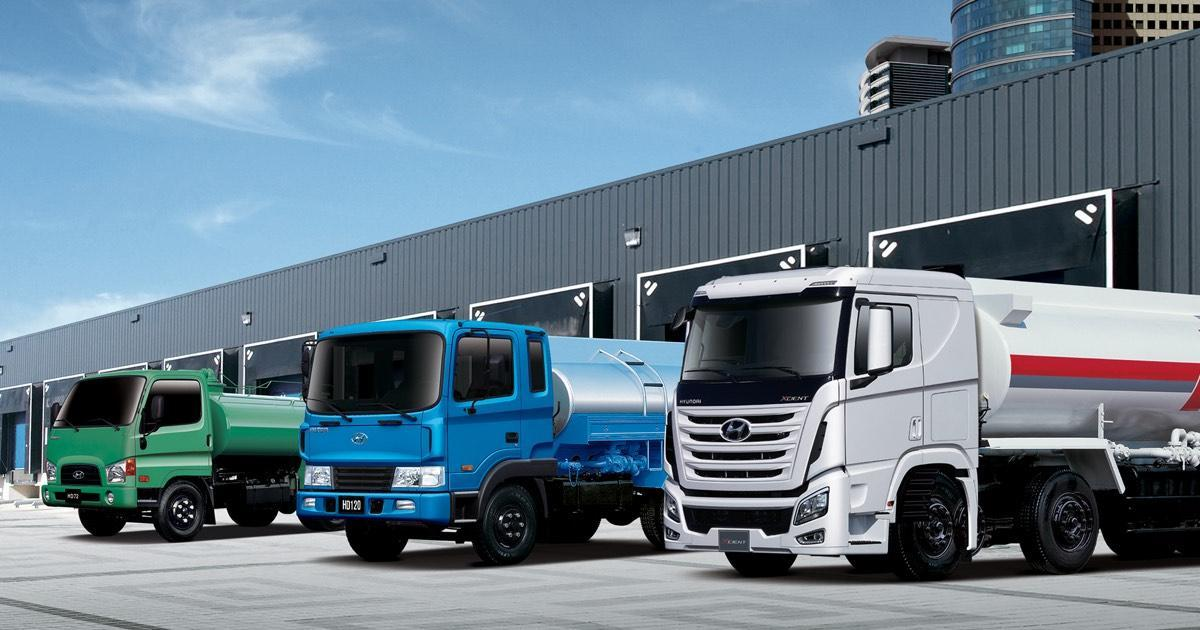truck: (663, 266, 1200, 583), (297, 318, 670, 564), (42, 369, 322, 545)
